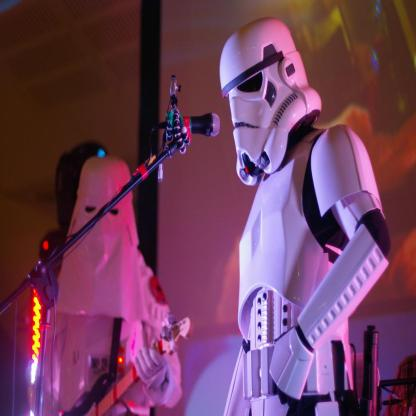Helmet: (223, 23, 318, 186)
